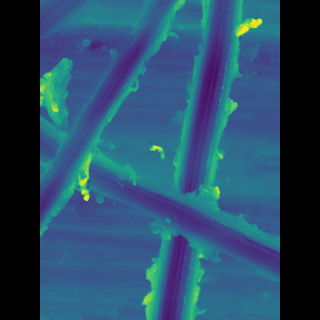Loch: (69, 112, 250, 285), (70, 0, 175, 238), (149, 0, 224, 320)
